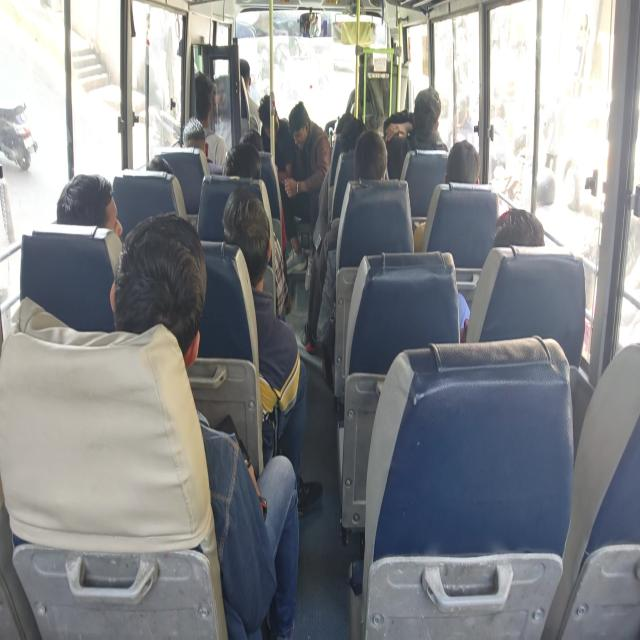person: (123, 248, 197, 340), (64, 174, 148, 246), (479, 210, 548, 270), (446, 124, 495, 198), (172, 56, 228, 119), (238, 200, 281, 268), (138, 152, 185, 206), (166, 108, 206, 159), (285, 108, 320, 158), (223, 146, 263, 185), (362, 144, 392, 188), (236, 128, 272, 160), (354, 41, 384, 78), (333, 131, 361, 170), (235, 53, 263, 83), (419, 94, 437, 137), (258, 96, 274, 126)
